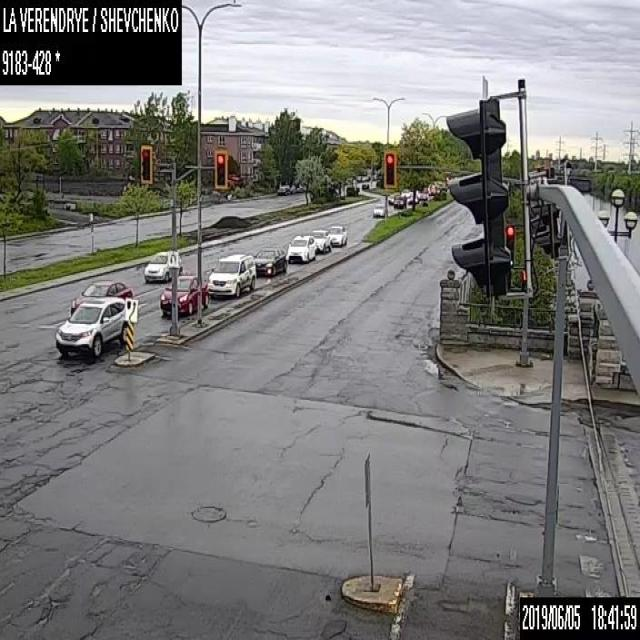vehicle: (55, 296, 127, 356), (70, 279, 132, 315), (207, 253, 256, 296), (160, 274, 208, 315), (144, 250, 182, 282), (254, 245, 286, 275), (286, 234, 316, 263), (310, 228, 330, 253), (326, 224, 346, 245), (372, 203, 386, 217), (393, 193, 406, 208), (276, 184, 290, 195), (406, 193, 418, 204), (388, 192, 398, 204), (401, 188, 409, 198), (289, 183, 295, 194)
